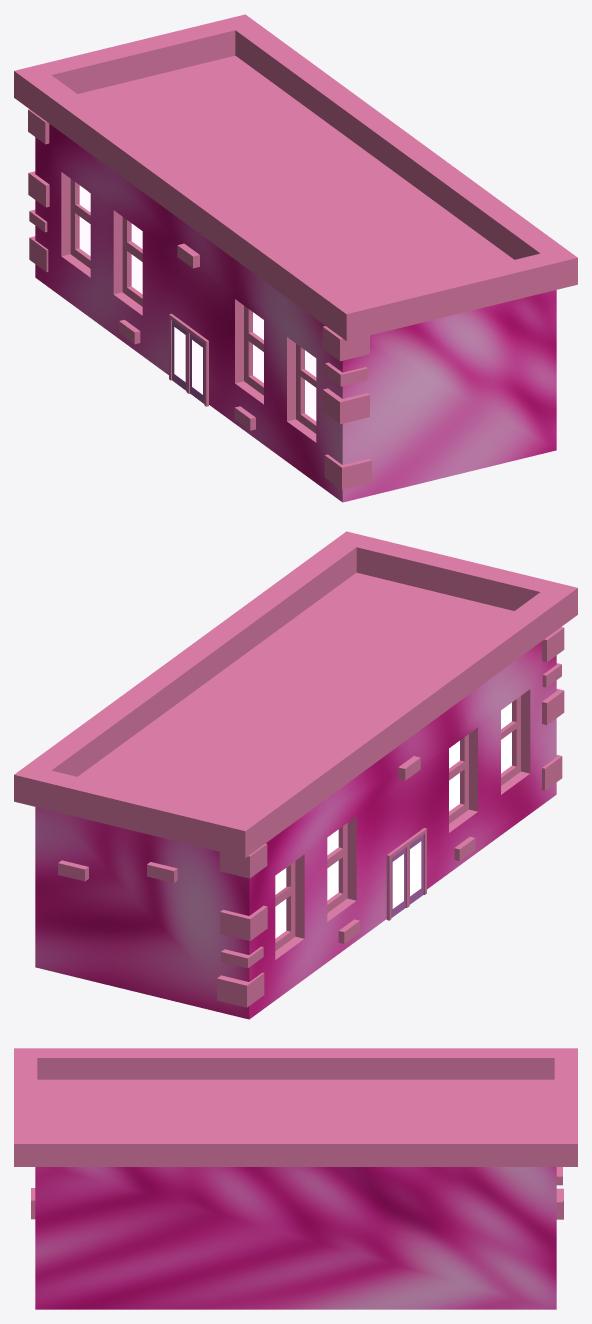
File: Big pink building.fbx
3 views of the same model, one above another, from view 1: azimuth 30°, elevation 25°; view 2: azimuth 150°, elevation 25°; view 3: azimuth 270°, elevation 25° (orthographic). The views are drawn at different scales.
Parts seen in each view (by area): view 1: Cube.129; view 2: Cube.129; view 3: Cube.129.
Boxes of the visible parts, left/top/right/bottom form: Cube.129: left=14, top=14, right=577, bottom=502; Cube.129: left=14, top=531, right=577, bottom=1019; Cube.129: left=14, top=1048, right=577, bottom=1309.
Size of the model in its own units: 1540 by 1274 by 3831.
4 materials, 1 textured.
